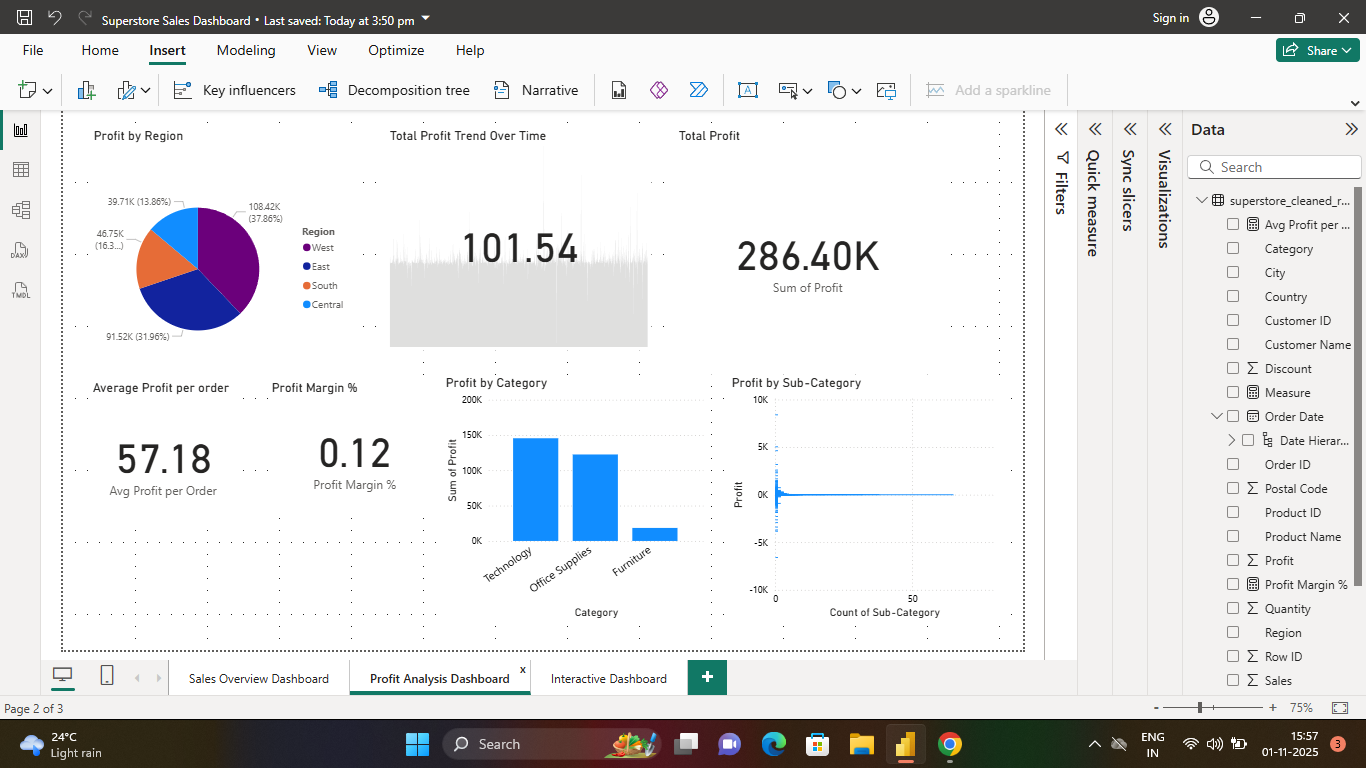

This screenshot's page, from the dashboard's own definition file:
{"tool":"powerbi","page":{"name":"Profit Analysis Dashboard","canvas":[1280,720],"ordinal":1},"visuals":[{"type":"pieChart","title":" Profit by Region","fields":{"Category":["superstore_cleaned_ready.Region"],"Y":["superstore_cleaned_ready.Profit"]},"box":[36.6,23.4,352.7,357.1],"z":0},{"type":"kpi","title":"Total Profit Trend Over Time","fields":{"Indicator":["superstore_cleaned_ready.Profit"],"TrendLine":["superstore_cleaned_ready.Order Date"]},"box":[430.2,23.4,354.1,297.1],"z":1},{"type":"card","title":"Total Profit","fields":{"Values":["superstore_cleaned_ready.Profit"]},"box":[816.6,23.4,354.1,329.3],"z":2},{"type":"card","title":"Average Profit per order","fields":{"Values":["superstore_cleaned_ready.Avg Profit per Order"]},"box":[35.1,360,197.6,197.6],"z":3},{"type":"card","title":"Profit Margin %","fields":{"Values":["superstore_cleaned_ready.Profit Margin %"]},"box":[273.7,360,231.2,182.9],"z":4},{"type":"clusteredColumnChart","title":" Profit by Category","fields":{"Category":["superstore_cleaned_ready.Category"],"Y":["superstore_cleaned_ready.Profit"]},"box":[504.9,352.7,354.1,329.3],"z":5},{"type":"clusteredBarChart","title":"Profit by Sub-Category","fields":{"Y":["superstore_cleaned_ready.Sub-Category"],"Category":["superstore_cleaned_ready.Profit"]},"box":[886.8,352.7,367.3,329.3],"z":6}]}

Visuals, with their boxes on the page's 1280x720 design canvas (x1, y1, x2, y2). These are canvas units, not pixel positions in the 1366x768 screenshot, which may show the page scaled, cropped or inside an application window:
" Profit by Region" pieChart: bbox(37, 23, 389, 380)
"Total Profit Trend Over Time" kpi: bbox(430, 23, 784, 320)
"Total Profit" card: bbox(817, 23, 1171, 353)
"Average Profit per order" card: bbox(35, 360, 233, 558)
"Profit Margin %" card: bbox(274, 360, 505, 543)
" Profit by Category" clusteredColumnChart: bbox(505, 353, 859, 682)
"Profit by Sub-Category" clusteredBarChart: bbox(887, 353, 1254, 682)
